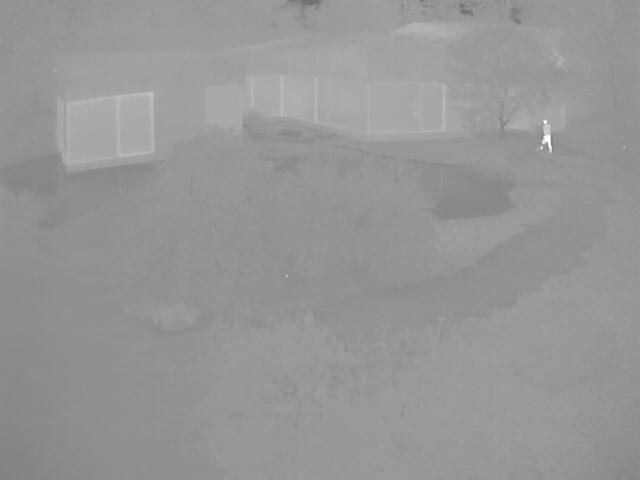person: (538, 119, 553, 153)
